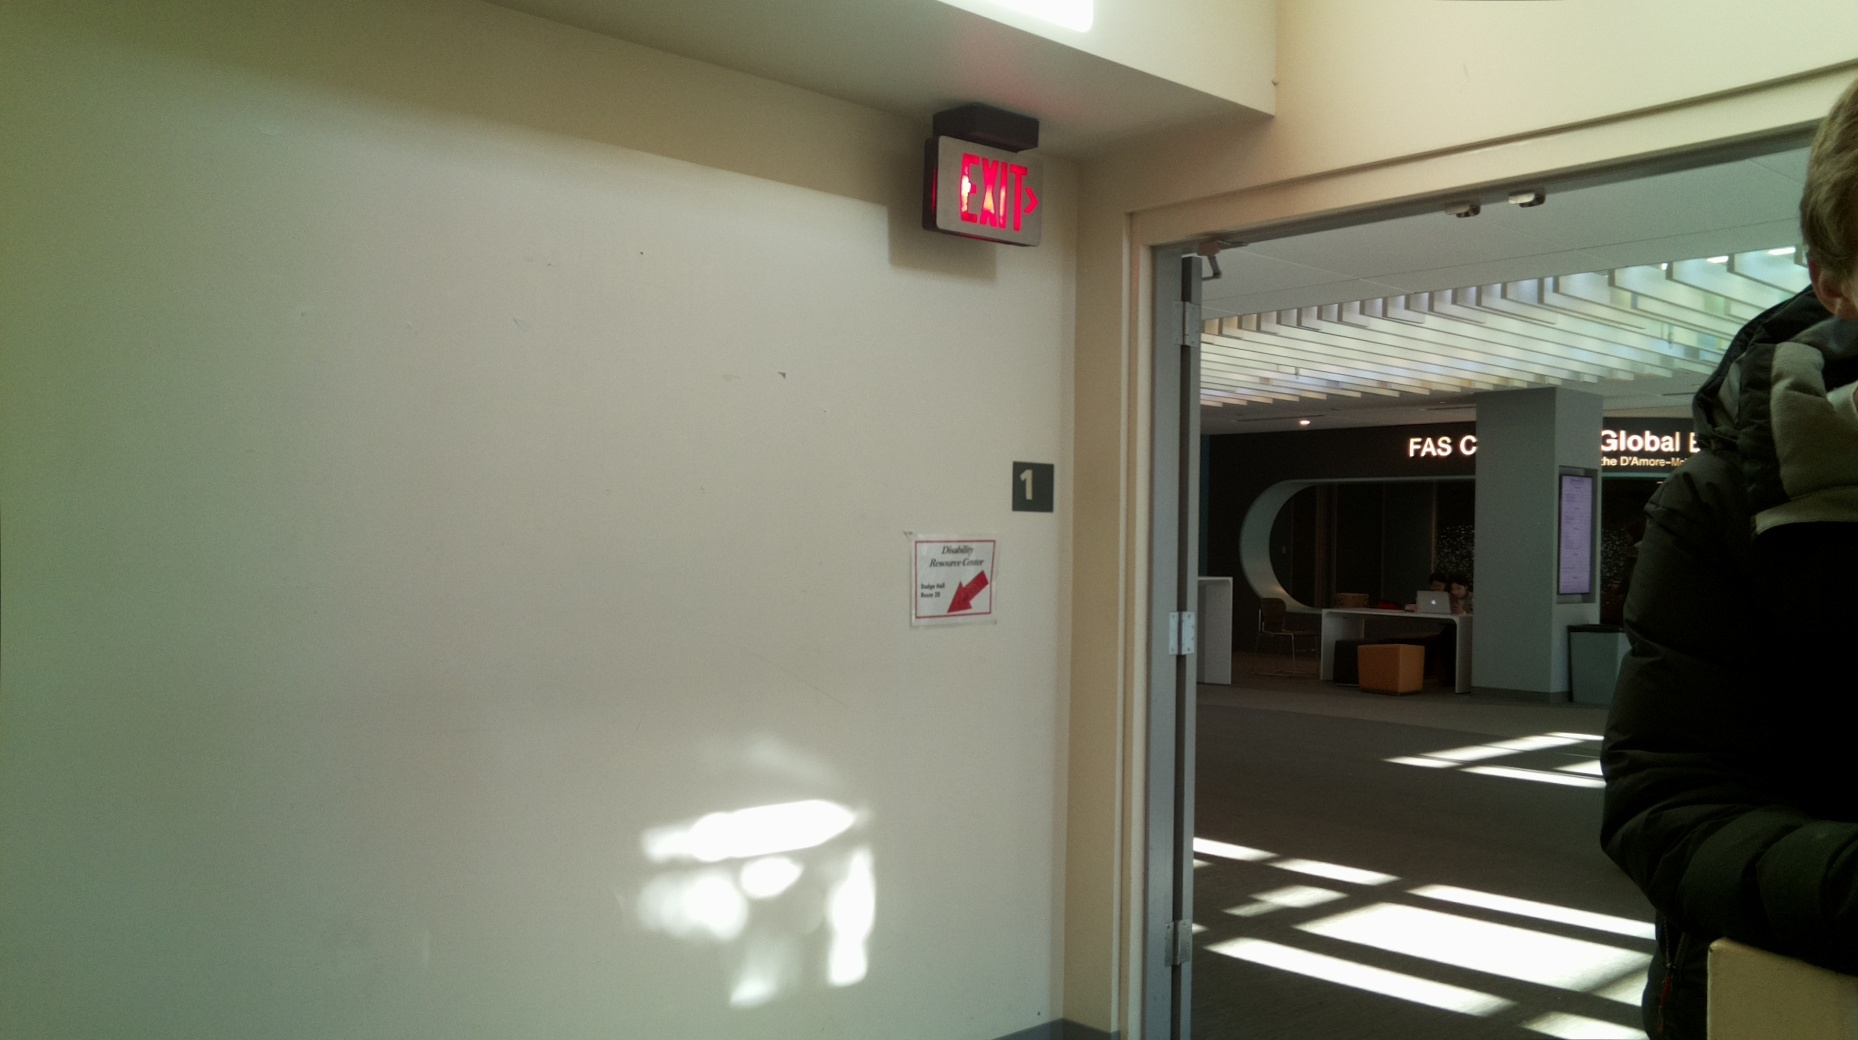exit sign: (916, 128, 1049, 254)
